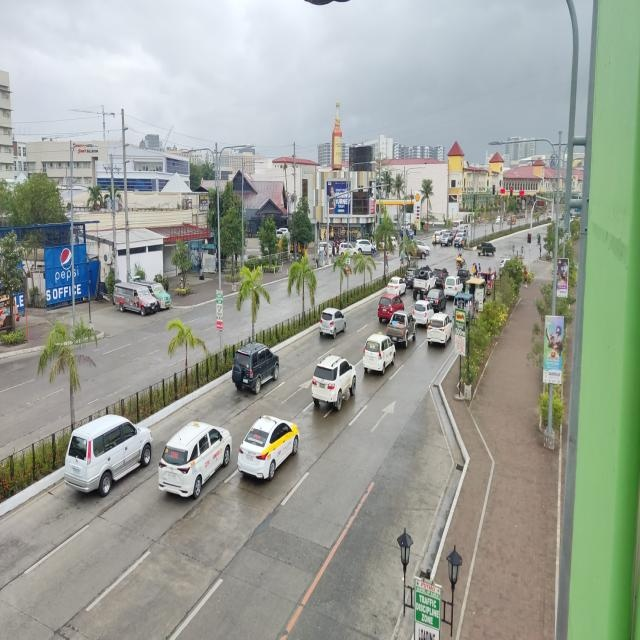Motorcycle: (456, 253, 467, 269), (371, 243, 380, 257), (433, 234, 437, 246)
